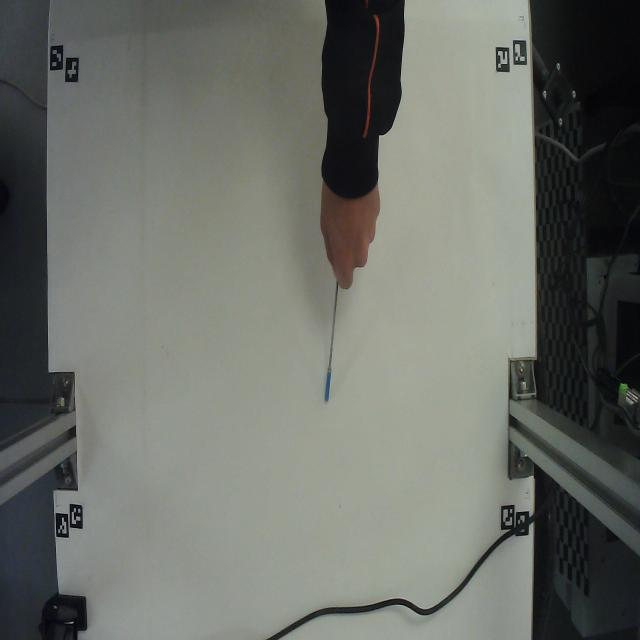Pres: (316, 268, 353, 422)
